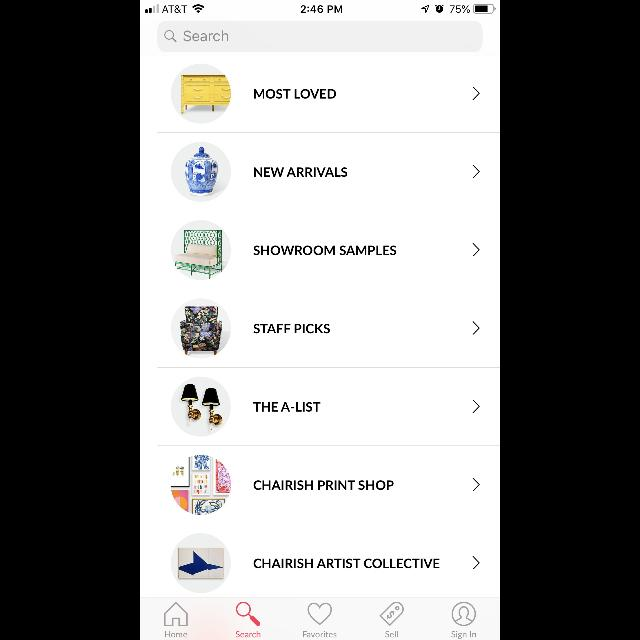icon: (164, 602, 188, 626), (236, 602, 260, 626), (380, 602, 404, 626), (452, 602, 476, 626), (308, 603, 332, 625), (165, 31, 177, 43), (472, 86, 480, 100), (472, 556, 480, 570), (472, 165, 480, 178), (472, 244, 480, 256), (472, 322, 480, 334), (472, 400, 480, 412), (472, 478, 480, 490)
image: (171, 64, 231, 124), (171, 142, 231, 202), (171, 220, 231, 280), (171, 298, 231, 358), (171, 377, 231, 437), (171, 455, 231, 515), (171, 533, 231, 593)
input: (158, 22, 482, 52)
text: (254, 558, 440, 568), (254, 246, 396, 256), (254, 480, 394, 490), (255, 167, 348, 177), (254, 89, 336, 99), (254, 324, 330, 334), (253, 402, 320, 412), (184, 30, 228, 42), (304, 631, 336, 637), (452, 631, 476, 639), (236, 631, 260, 637), (165, 631, 187, 637), (386, 631, 398, 637)
uppertaskbar: (140, 0, 500, 14)
